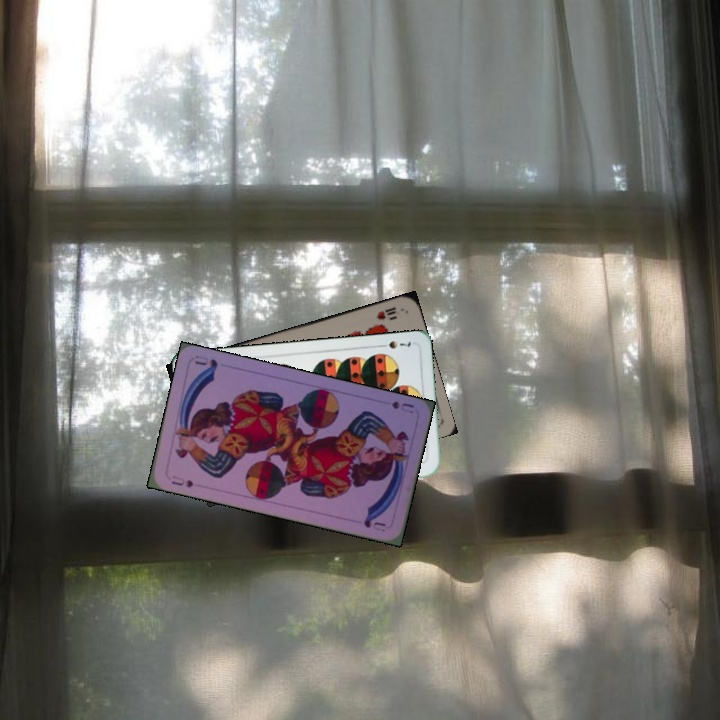H10: (373, 303, 402, 322)
S7: (374, 337, 413, 351)
SU: (388, 397, 416, 416), (167, 472, 196, 490)
